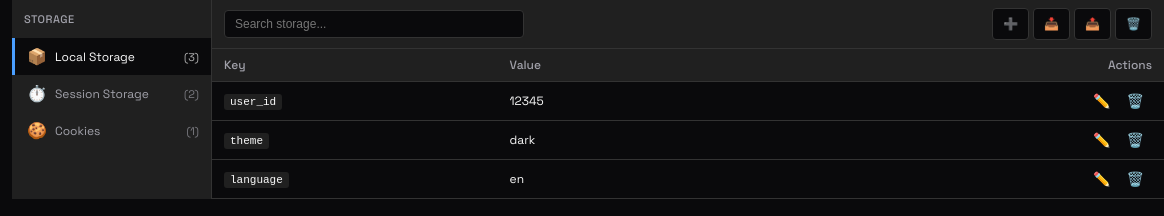
StorageTab › should search storage items
Type "theme" into the field with placeholder "Search storage..." at (374, 24), box [224,10,524,38]
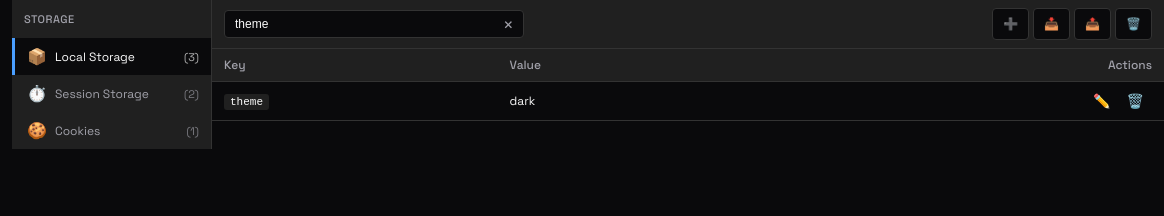
Expected: the text "theme" is shown, [224,94,269,110]
Expected: the text "user_id" is gone
